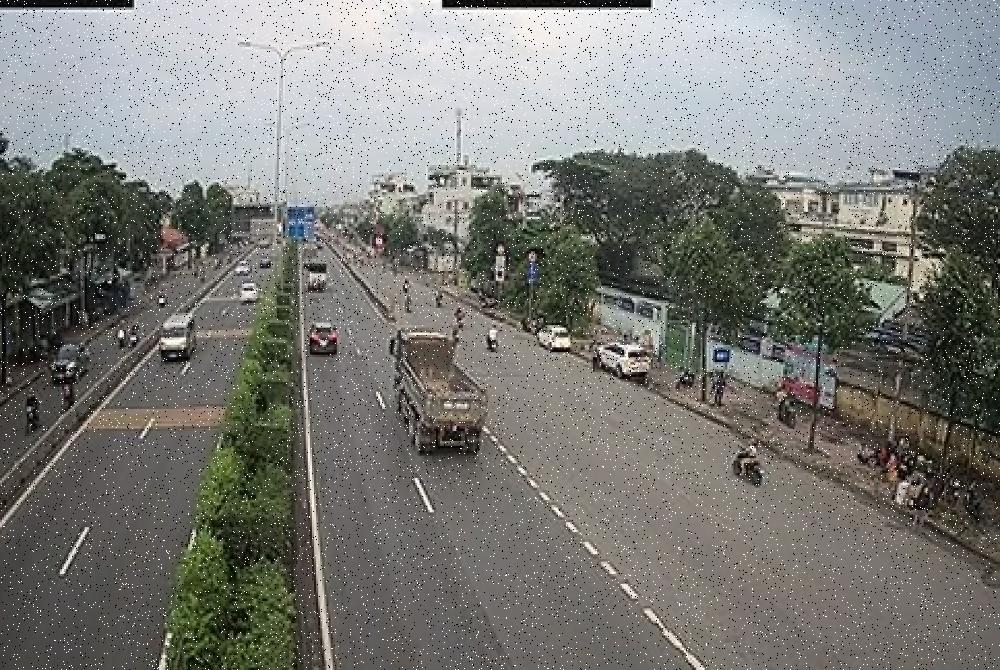truck: (387, 324, 489, 459)
